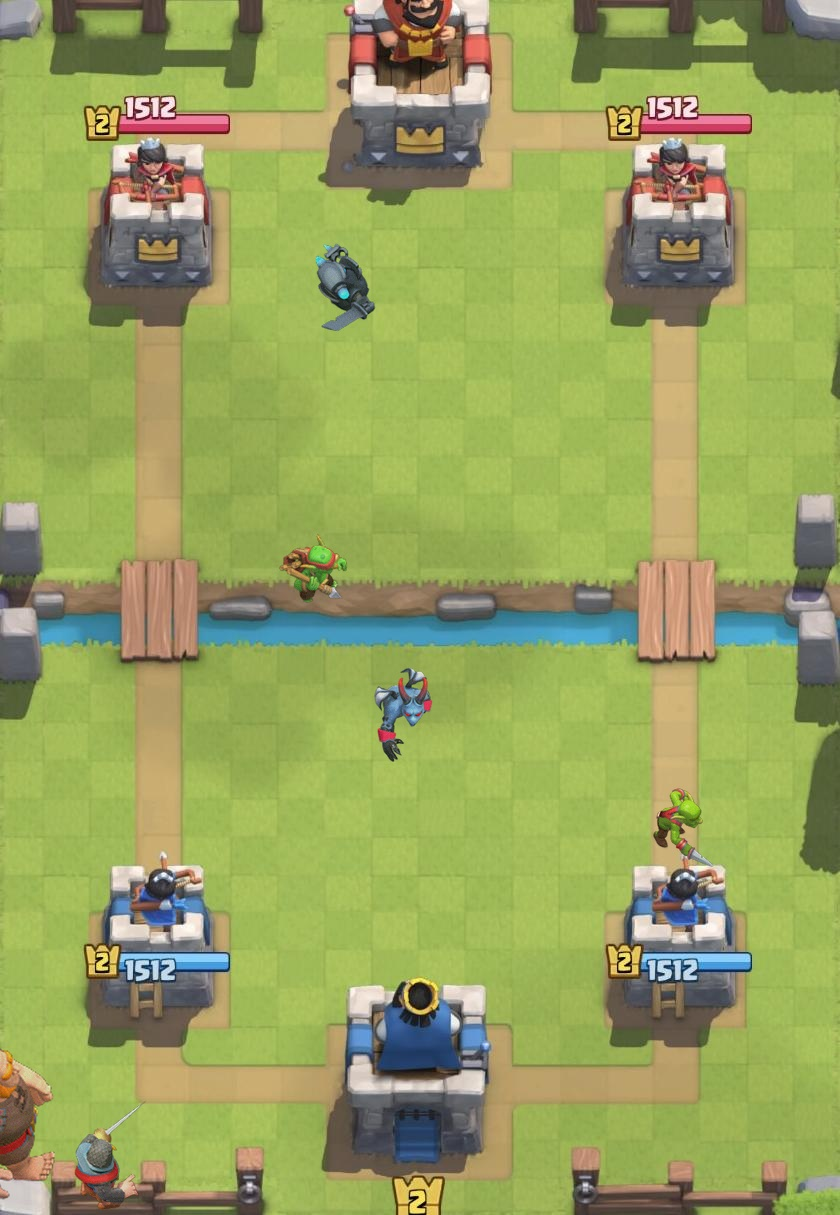giant_enemy: (0, 1048, 55, 1200)
goblin_enemy: (653, 788, 714, 867)
knight_enemy: (74, 1101, 146, 1210)
mekka_ally: (315, 243, 376, 332)
minion_enemy: (374, 667, 433, 762)
spoblin_enemy: (279, 534, 348, 603)
